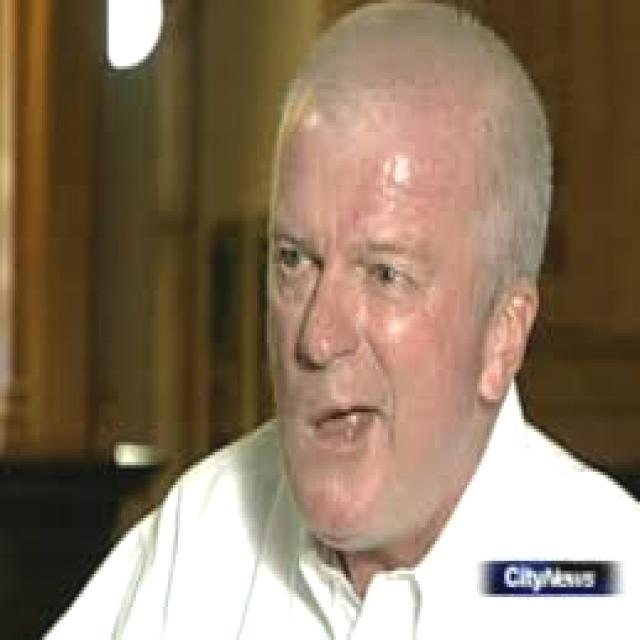stroke_face: (267, 18, 497, 551)
